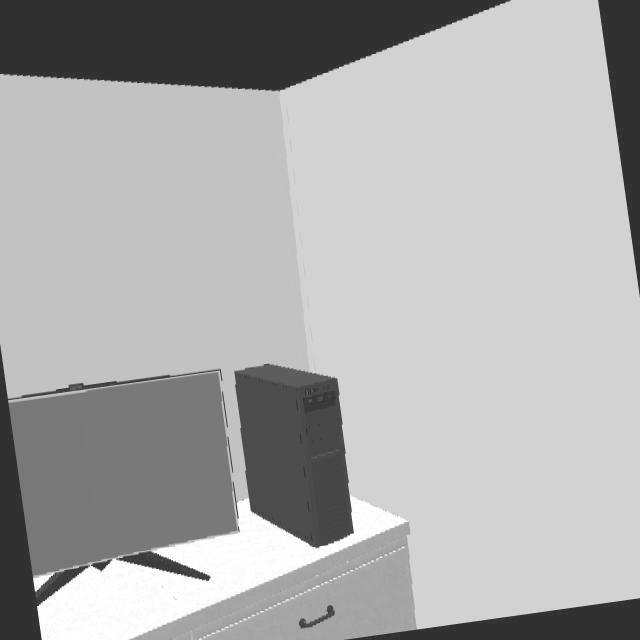monitor: (8, 370, 241, 578)
table: (37, 501, 418, 640)
